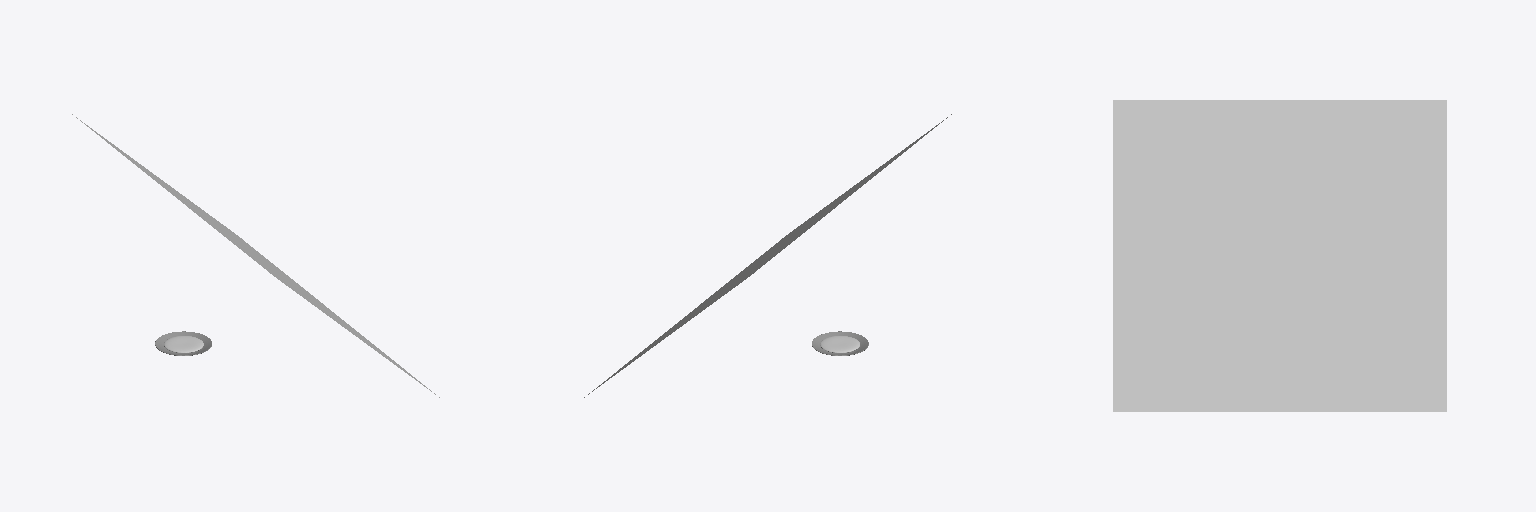
The model's file is blood_scene.obj.
3 renders of one model, left to right at view 1: azimuth 30°, elevation 25°; view 2: azimuth 150°, elevation 25°; view 3: azimuth 270°, elevation 25°, orthographic.
Visible parts, largest first — view 1: Plane, glass, blood; view 2: Plane, glass, blood; view 3: Plane.
Boxes of the visible parts, box(x1,y1,x2,y2) form: Plane: box(72, 114, 439, 397); glass: box(155, 331, 211, 355); blood: box(164, 336, 203, 352); Plane: box(584, 114, 951, 397); glass: box(812, 331, 868, 355); blood: box(820, 336, 859, 352); Plane: box(1113, 100, 1446, 411).
Bounding box in the file's own units: 7.07 × 7.07 × 10.